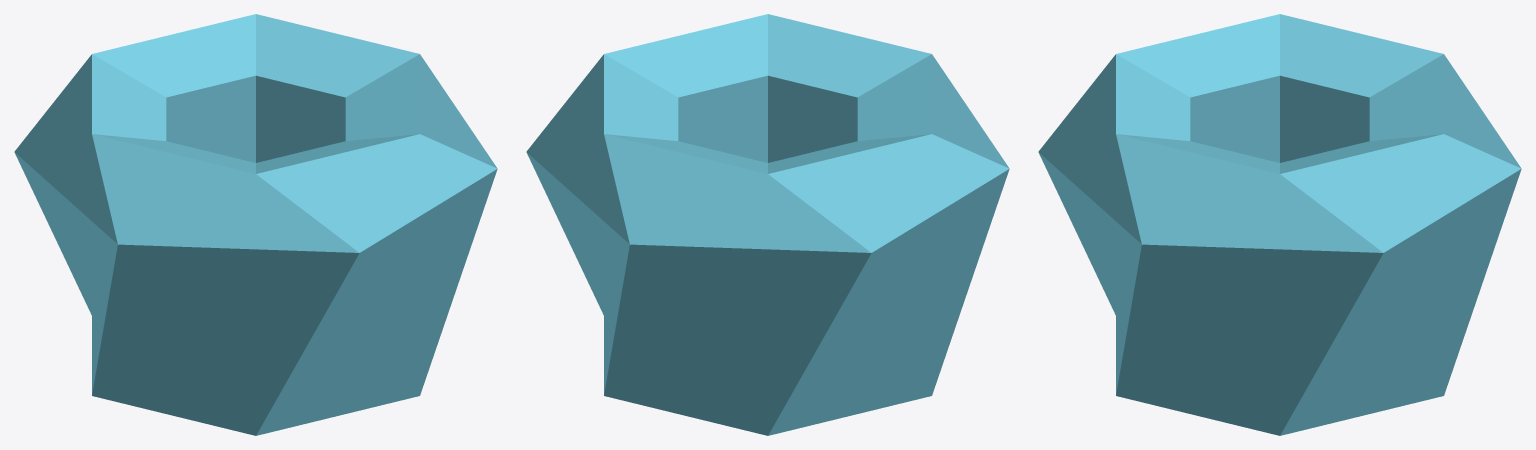
The model's file is radio_target.gltf.
The picture shows the model from 3 angles, left to right: view 1: azimuth 30°, elevation 25°; view 2: azimuth 150°, elevation 25°; view 3: azimuth 270°, elevation 25°; orthographic projection.
Visible parts, largest first — view 1: radio_target; view 2: radio_target; view 3: radio_target.
Part boxes in pixels (left/top/right/bottom): radio_target: left=14, top=14, right=497, bottom=435; radio_target: left=526, top=14, right=1009, bottom=435; radio_target: left=1038, top=14, right=1521, bottom=435.
Bounding box in the file's own units: 0.5439 × 0.3584 × 0.5996.
